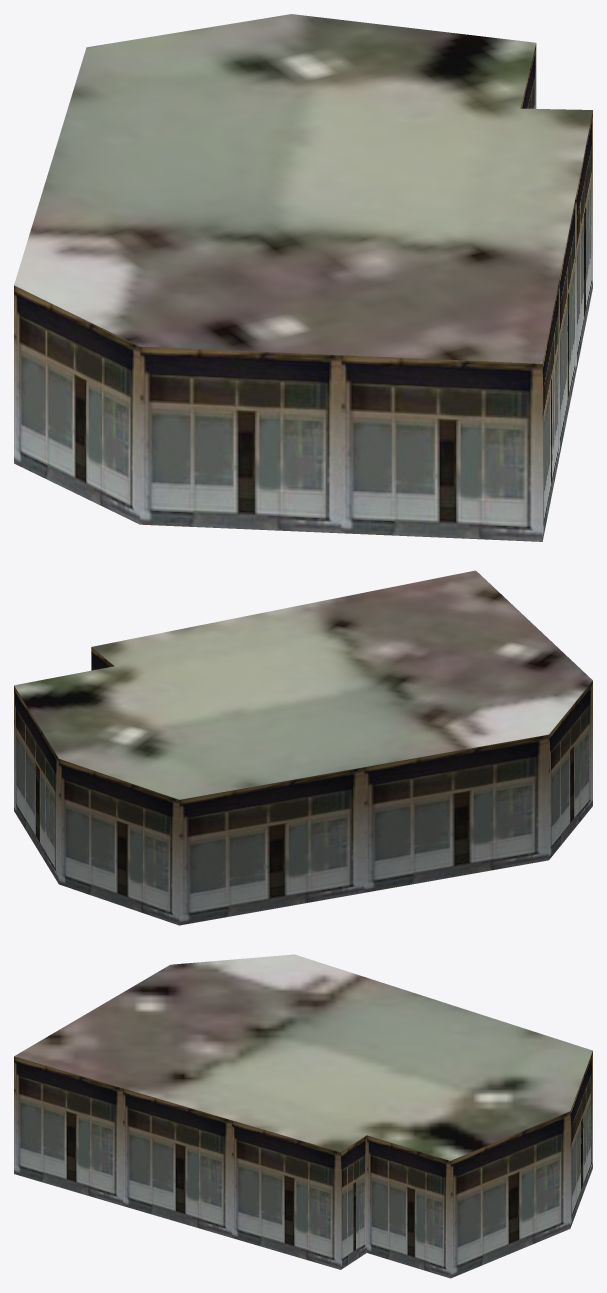
The model's file is T_1SVQ84NWP3.dae.
3 views of the same model, one above another, from view 1: azimuth 30°, elevation 25°; view 2: azimuth 150°, elevation 25°; view 3: azimuth 270°, elevation 25° (orthographic). The views are drawn at different scales.
Visible parts, largest first — view 1: SketchUp (×4); view 2: SketchUp (×5); view 3: SketchUp (×6).
Part boxes in pixels (<box>): SketchUp (×4): <box>14,14,592,541</box>; SketchUp (×5): <box>14,570,592,925</box>; SketchUp (×6): <box>14,954,592,1278</box>.
Bounding box in the file's own units: 14.89 × 17.66 × 3.96.
2 materials, 2 textured.
